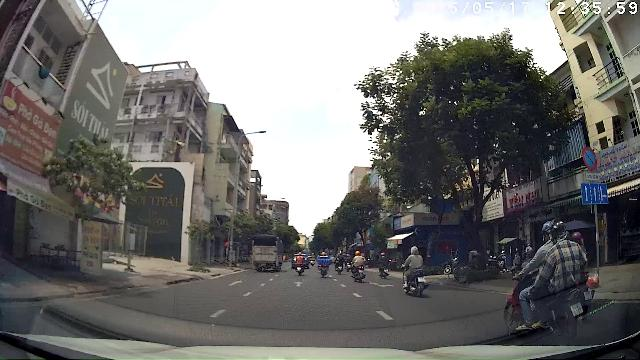131a-cam-do-xe: (582, 146, 597, 170)
